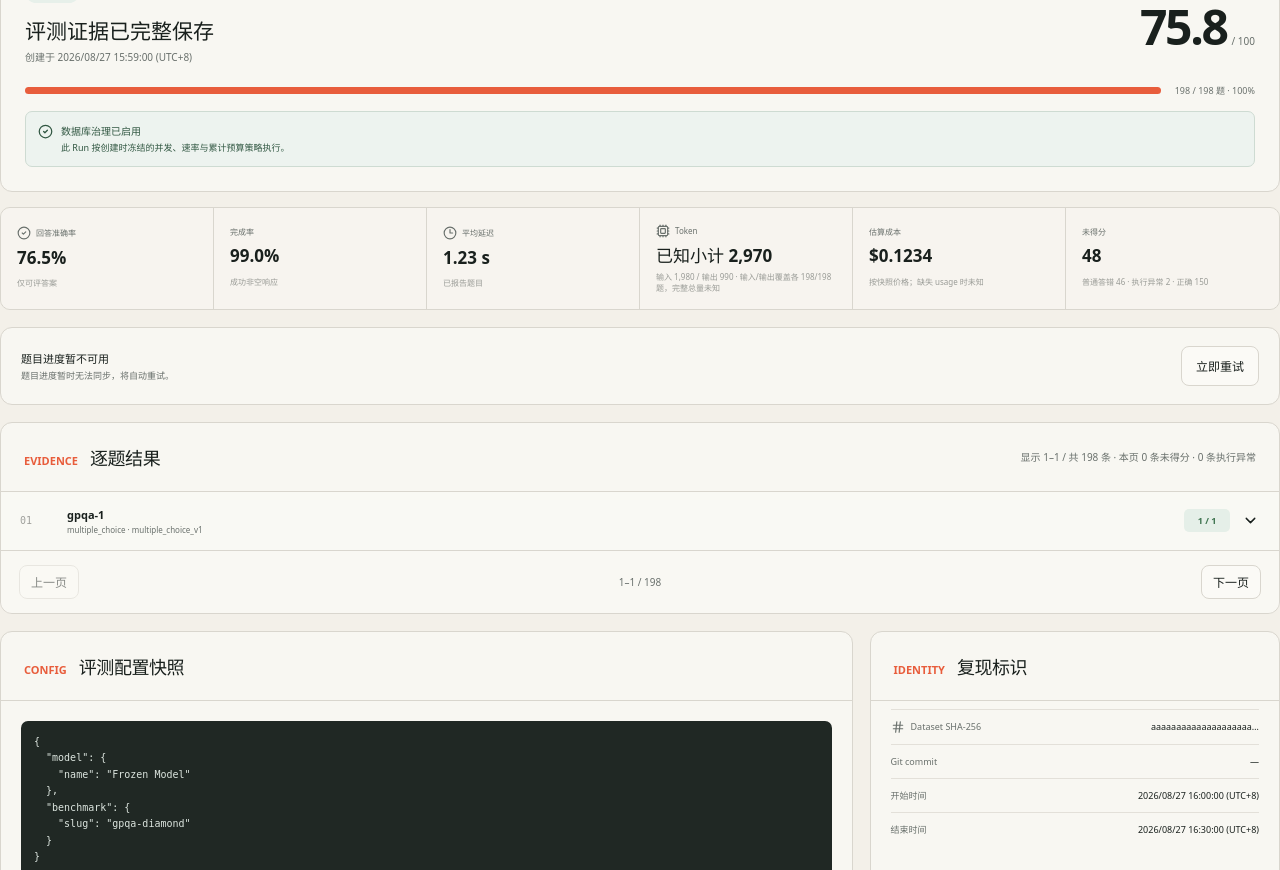
RunDetailPage › starts a different Run at evidence offset zero instead of reusing page two
The width and height of the screenshot is (1280, 870).
(page scrolled)
Expected: the text "gpqa-1" is shown, [67,506,104,522]
Click the button "下一页".
click(1231, 582)  # box [1201,564,1261,598]
(page scrolled)
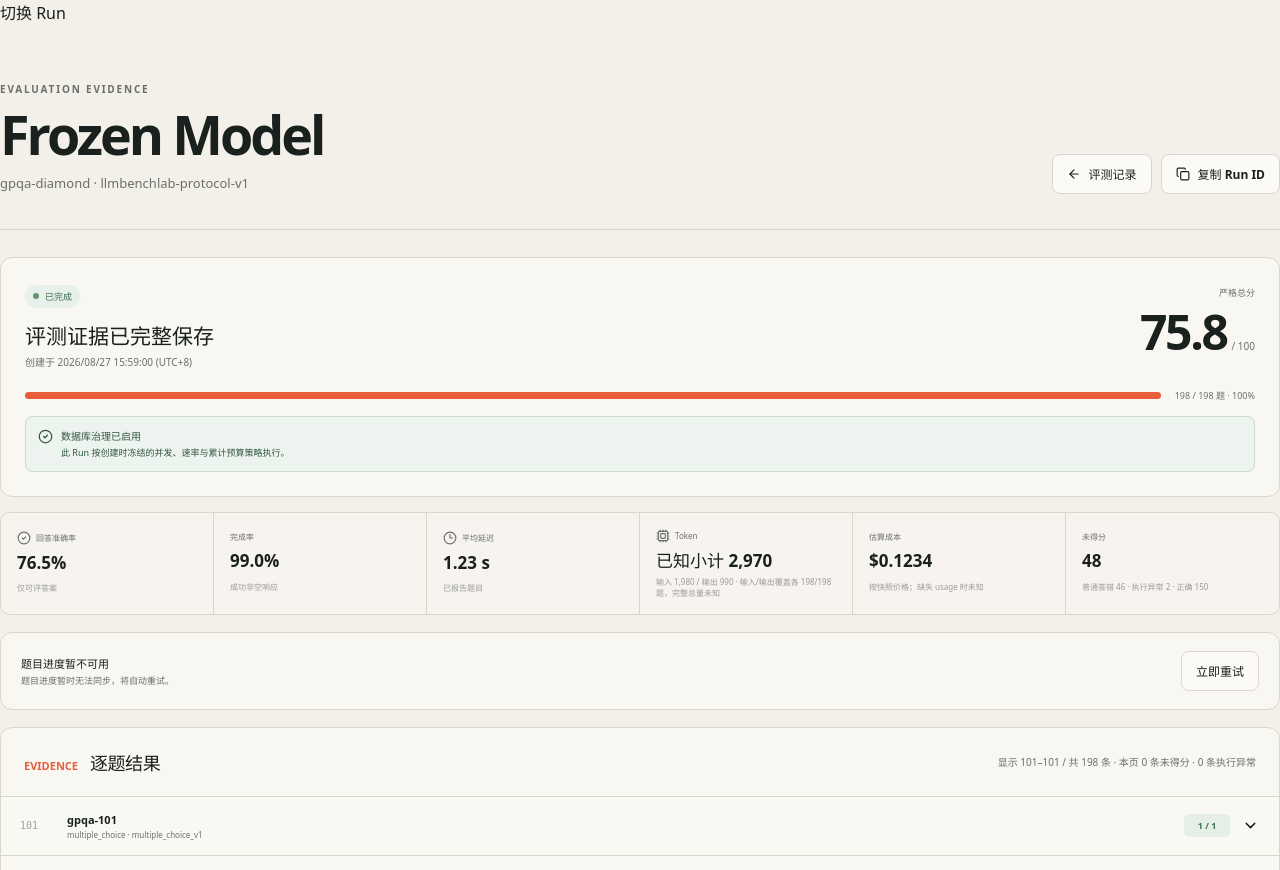
Expected: the text "gpqa-101" is shown, [67,812,117,826]
Click the link "切换 Run".
click(33, 13)  # box [0,2,66,24]
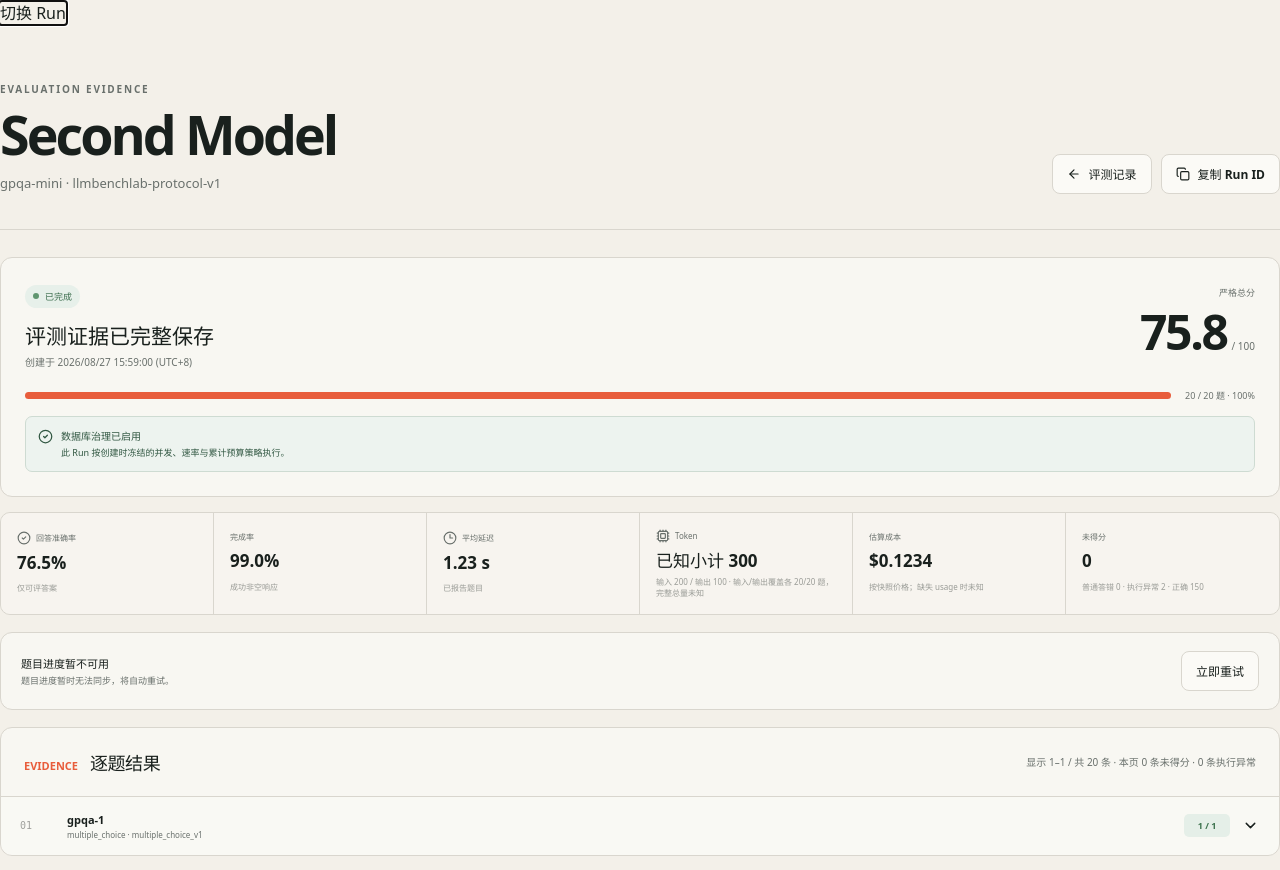
Expected: the heading "Second Model" is shown, [0,106,336,163]
Expected: the text "显示 1–1 / 共 20 条 · 本页 0 条未得分 · 0 条执行异常" is shown, [1026,754,1256,769]
